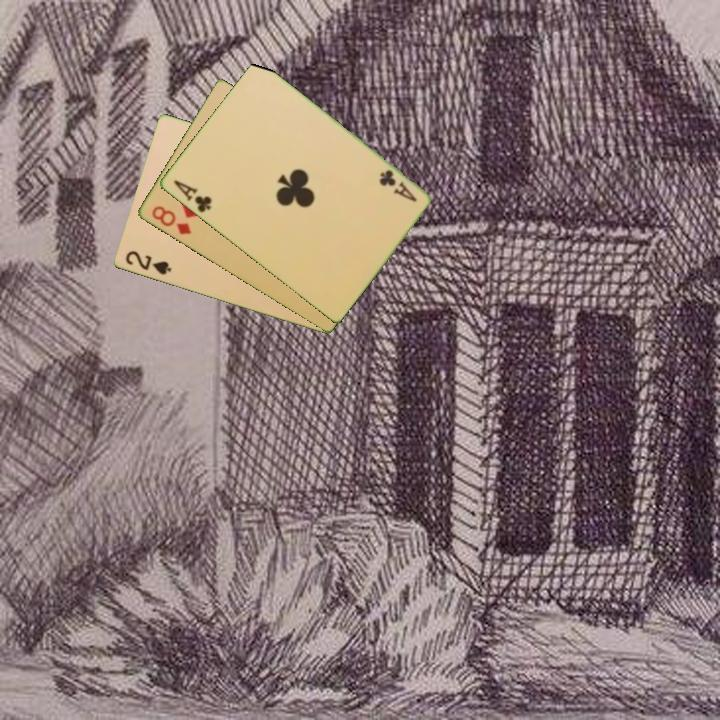2s: (122, 247, 174, 278)
8d: (148, 202, 194, 238)
Ac: (170, 176, 215, 216), (375, 166, 419, 205)
